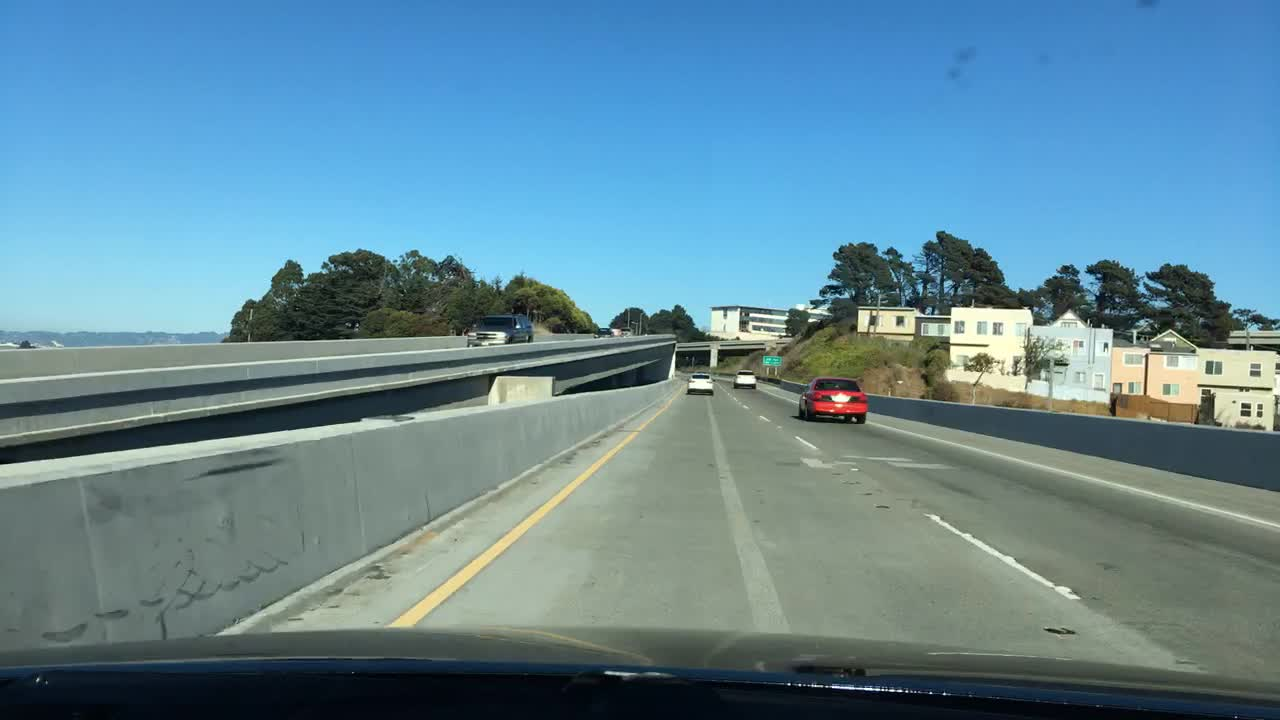car: (795, 375, 868, 421), (465, 315, 532, 346), (687, 371, 714, 394), (733, 369, 755, 387), (593, 328, 611, 338), (621, 325, 635, 335), (611, 326, 621, 338)
traffic sign: (761, 356, 779, 366)
